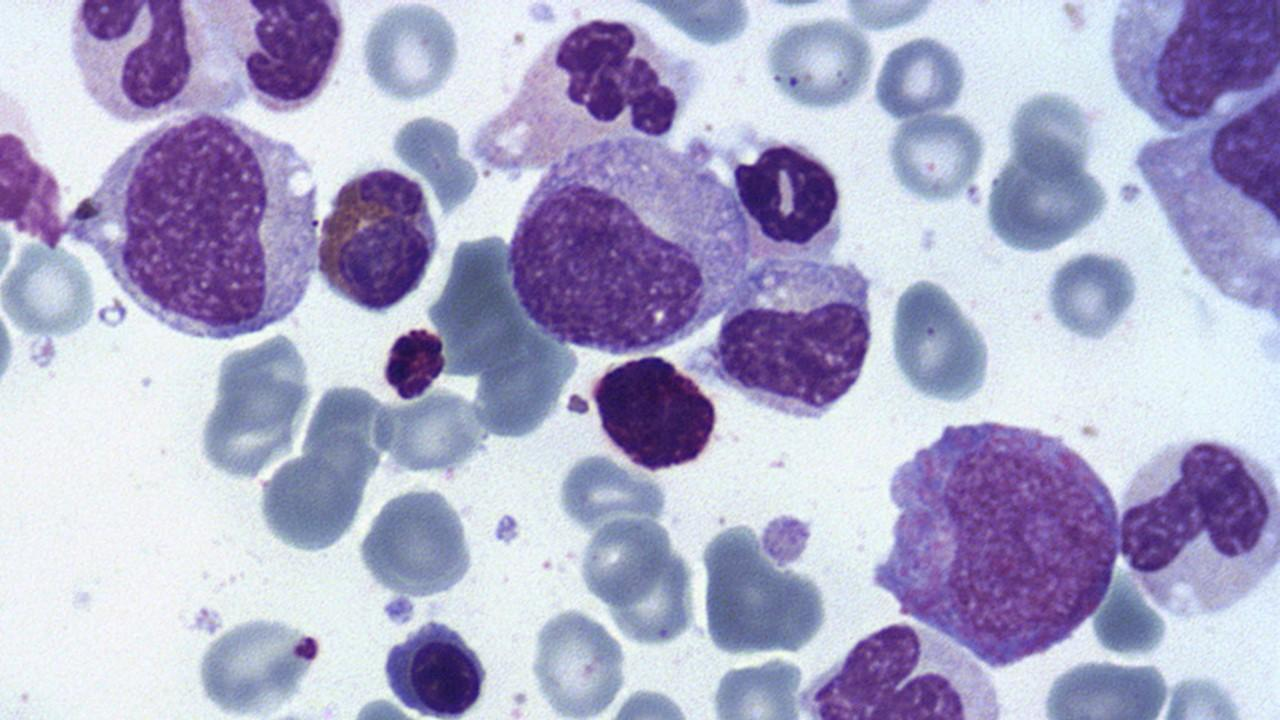Platelets: (755, 508, 817, 566), (185, 602, 226, 638), (380, 592, 418, 628), (491, 509, 523, 549), (521, 1, 563, 27), (317, 700, 340, 717)
RBC: (693, 509, 833, 657), (189, 321, 318, 479), (982, 134, 1115, 257), (886, 268, 1000, 408), (352, 478, 481, 600), (526, 604, 630, 716), (357, 1, 465, 106), (762, 13, 875, 113), (254, 452, 362, 555), (1002, 83, 1108, 183), (604, 538, 698, 649), (882, 108, 988, 204), (1045, 246, 1145, 346), (0, 242, 97, 336), (869, 35, 971, 122), (577, 513, 668, 608)
WBC: (862, 405, 1128, 672), (71, 107, 326, 347), (500, 132, 728, 366), (1122, 39, 1278, 377), (474, 4, 692, 184), (61, 3, 349, 128), (1108, 426, 1280, 624), (708, 248, 881, 429), (791, 614, 1012, 716), (311, 156, 444, 317), (1114, 2, 1268, 131), (590, 345, 722, 475), (728, 131, 852, 258), (188, 611, 328, 717), (0, 65, 69, 256), (382, 617, 496, 717), (380, 321, 449, 405)
